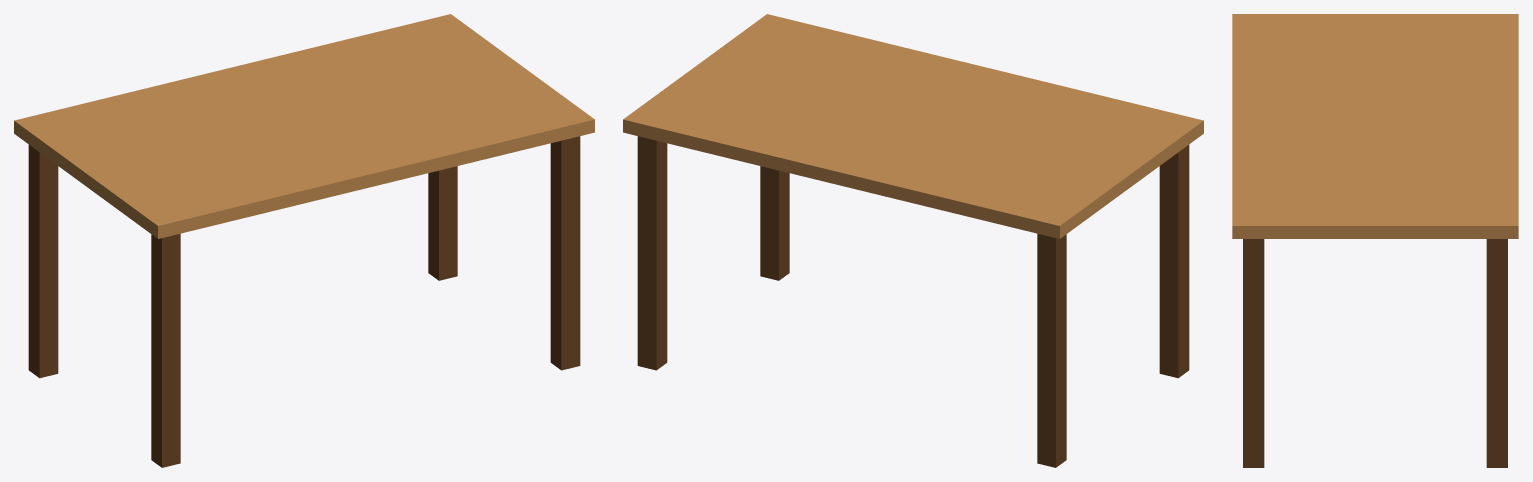
File: table.glb
3 renders of one model, left to right at view 1: azimuth 30°, elevation 25°; view 2: azimuth 150°, elevation 25°; view 3: azimuth 270°, elevation 25°, orthographic.
Visible parts, largest first — view 1: table; view 2: table; view 3: table.
Part boxes in pixels (<box>): table: <box>14,14,594,467</box>; table: <box>623,14,1203,467</box>; table: <box>1232,14,1518,467</box>.
Size of the model in its own units: 1.4 by 0.76 by 0.8.
